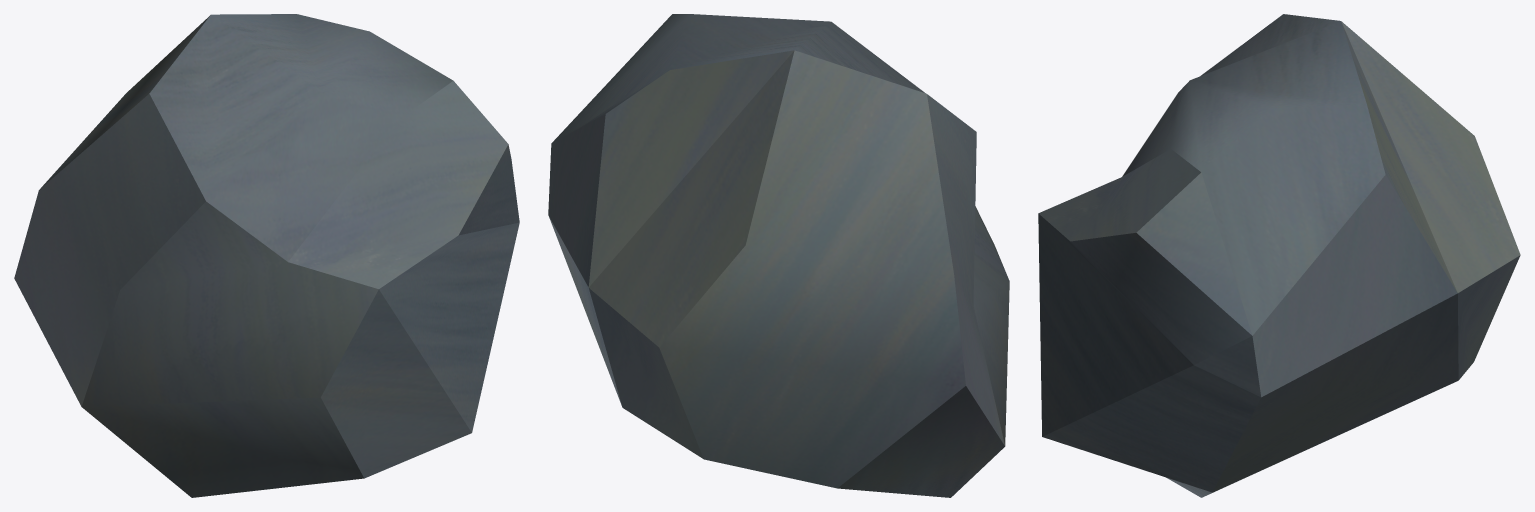
Rendered from SM_Stone_02.fbx.
3 renders of one model, left to right at view 1: azimuth 30°, elevation 25°; view 2: azimuth 150°, elevation 25°; view 3: azimuth 270°, elevation 25°, orthographic. The views are drawn at different scales.
Parts seen in each view (by area): view 1: SM_Stone_02; view 2: SM_Stone_02; view 3: SM_Stone_02.
Part boxes in pixels (left/top/right/bottom): SM_Stone_02: left=14, top=14, right=519, bottom=497; SM_Stone_02: left=548, top=14, right=1009, bottom=497; SM_Stone_02: left=1038, top=14, right=1520, bottom=497.
Size of the model in its own units: 189 by 176 by 175.
